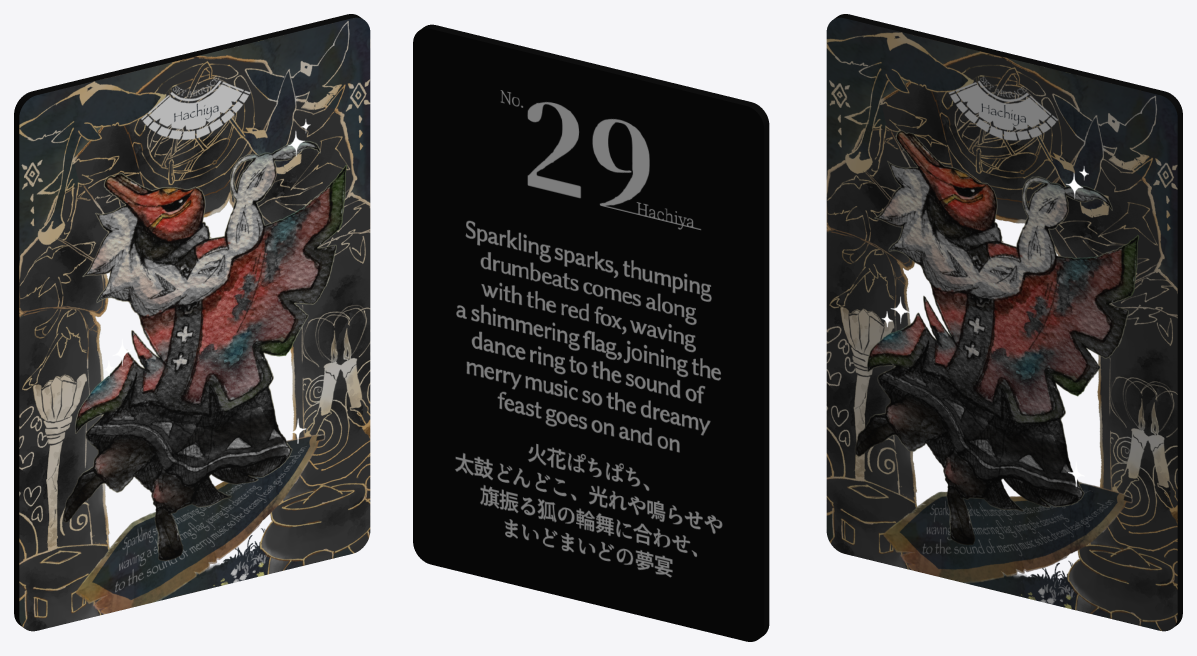
The model's file is 29_Hachiya.glb.
The picture shows the model from 3 angles, left to right: view 1: azimuth 30°, elevation 25°; view 2: azimuth 150°, elevation 25°; view 3: azimuth 330°, elevation 25°; orthographic projection.
Visible parts, largest first — view 1: きらきら; view 2: きらきら; view 3: きらきら.
Boxes of the visible parts, x1,y1,x2,y2 form: きらきら: (14,14,370,631); きらきら: (413,24,769,641); きらきら: (826,14,1182,631).
Bounding box in the file's own units: 0.236 × 0.344 × 0.023.
5 materials, 4 textured.
